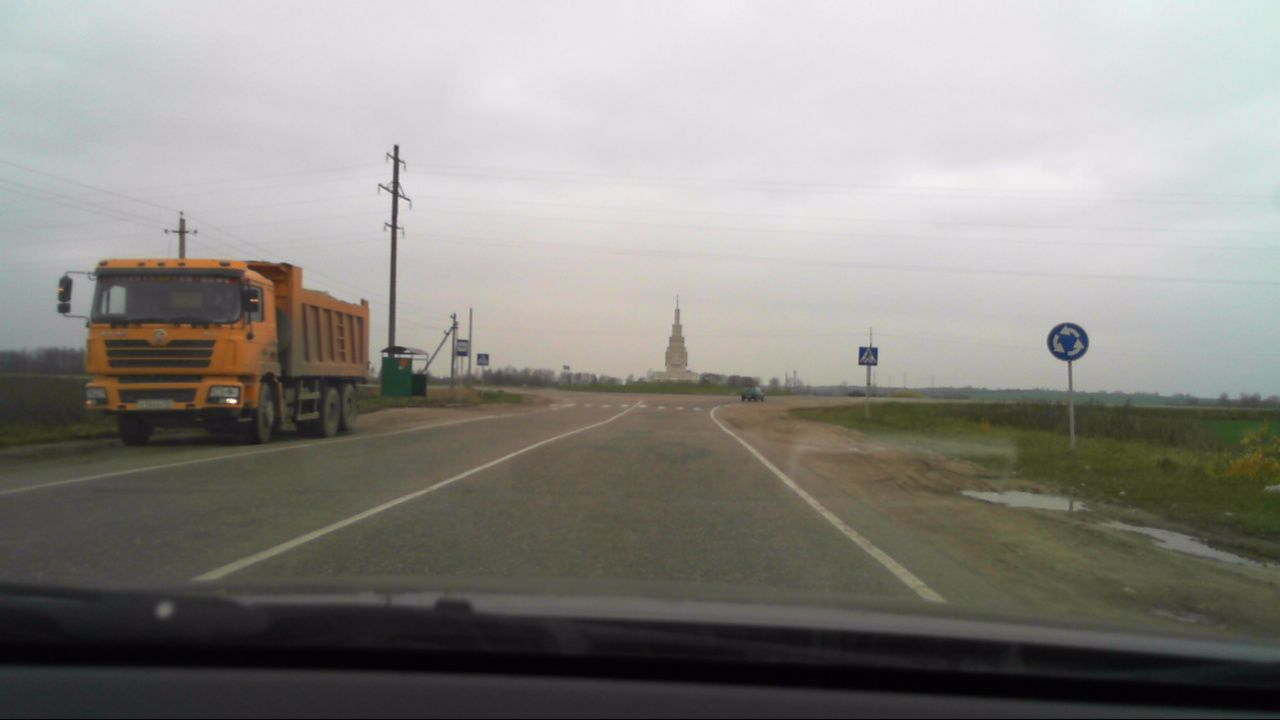Round-About: (1047, 321, 1090, 364)
